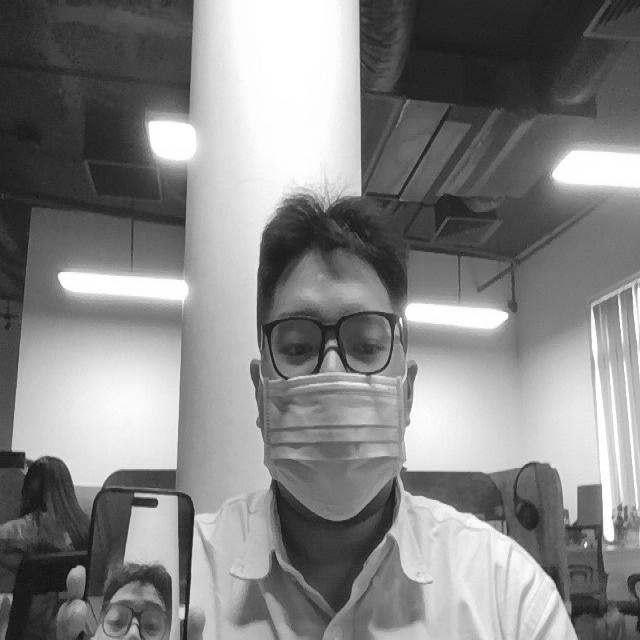fake: (255, 369, 412, 529), (74, 468, 205, 640), (91, 559, 180, 640)
real: (245, 175, 440, 542), (265, 308, 402, 381)
